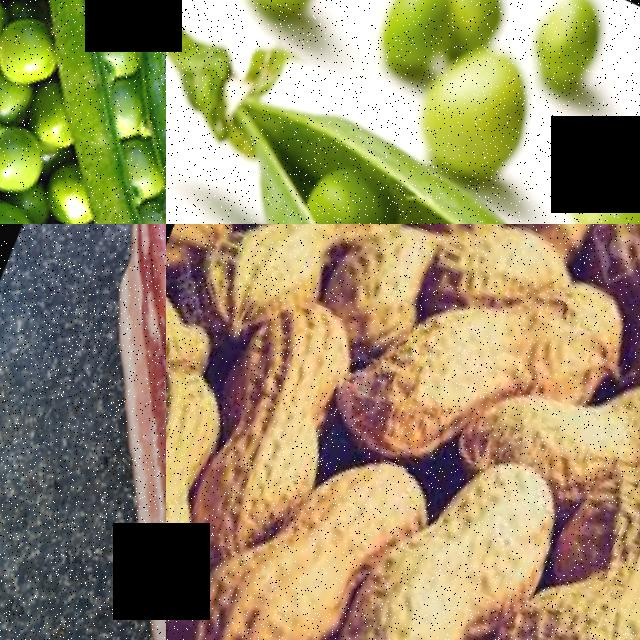peanuts: (172, 276, 375, 558), (343, 426, 574, 640), (324, 275, 511, 486), (507, 428, 640, 640), (479, 248, 640, 413), (166, 352, 245, 640), (583, 352, 640, 501)
peas: (222, 149, 640, 224), (0, 0, 166, 170), (0, 0, 74, 224)
pork belly: (33, 224, 166, 544)
